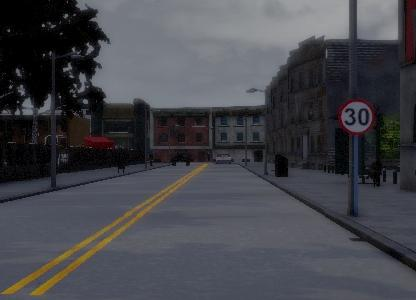Speed_30: (338, 95, 377, 139)
